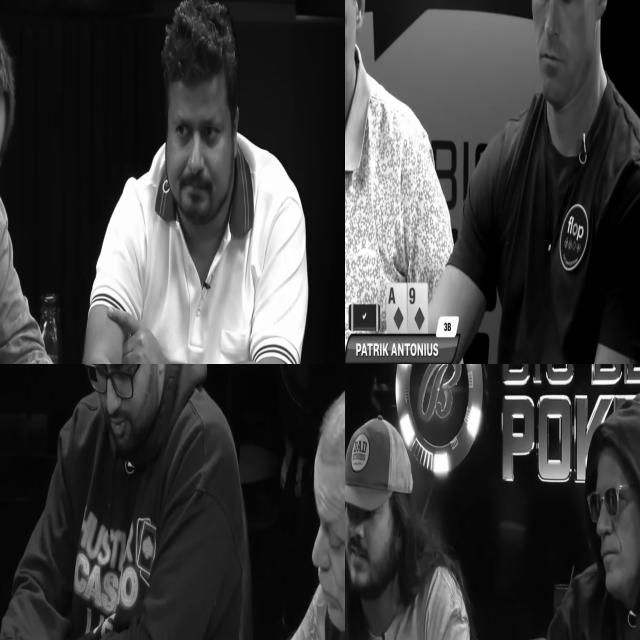9D: (408, 286, 427, 332)
AD: (387, 284, 407, 332)
